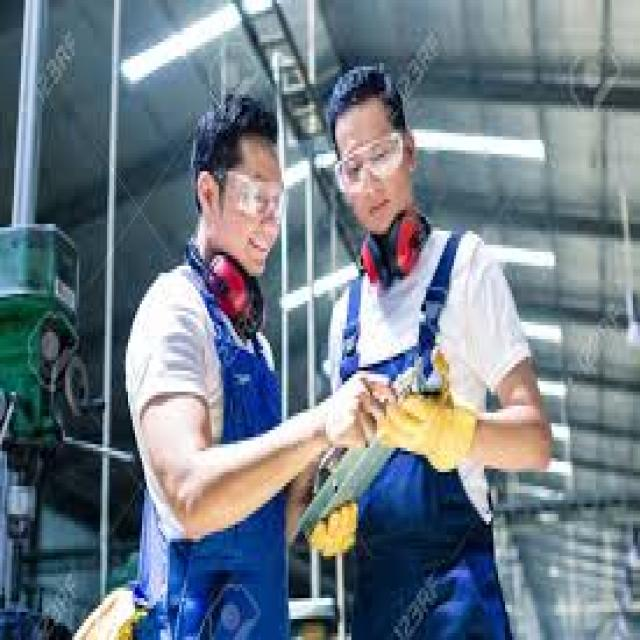Ear-protection: (200, 245, 249, 315), (384, 203, 426, 273), (356, 231, 382, 280)
glasses: (332, 119, 402, 196), (219, 161, 286, 220)
person: (312, 55, 558, 637), (117, 83, 297, 640)
